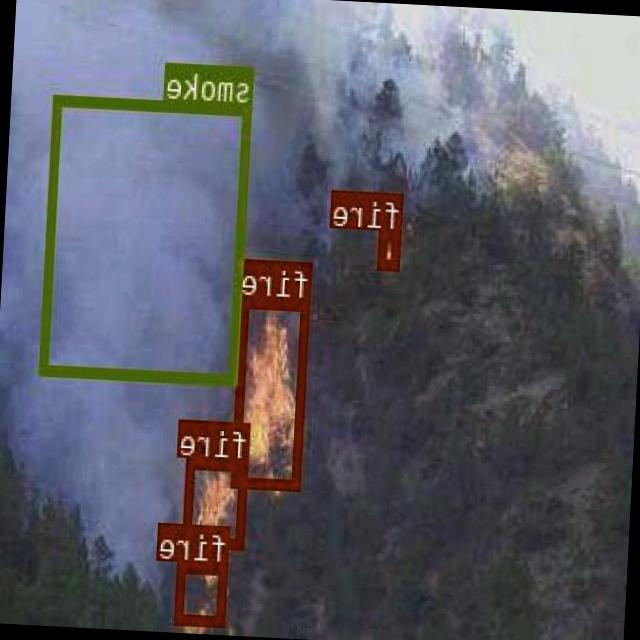fire: (233, 296, 312, 488), (185, 457, 251, 548), (176, 560, 229, 626), (380, 230, 404, 268)
smoke: (41, 93, 253, 384)
